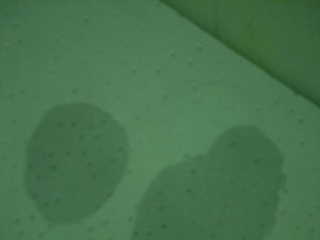Water_detected: (140, 153, 233, 240), (37, 112, 116, 207)
